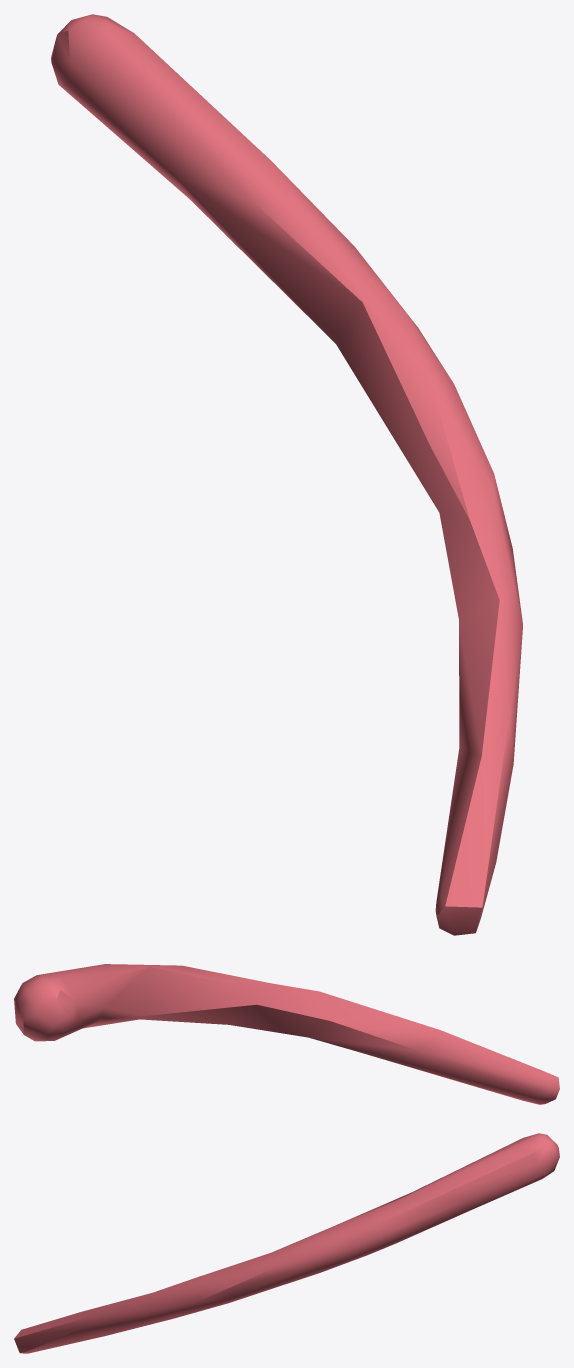
File: fma8668_fj2938.glb
3 renders of one model, top to bottom at view 1: azimuth 30°, elevation 25°; view 2: azimuth 150°, elevation 25°; view 3: azimuth 270°, elevation 25°, orthographic. The views are drawn at different scales.
Parts seen in each view (by area): view 1: FMA8668_FJ2938; view 2: FMA8668_FJ2938; view 3: FMA8668_FJ2938.
Boxes of the visible parts, x1=… form: FMA8668_FJ2938: x1=51, y1=14, x2=522, y2=935; FMA8668_FJ2938: x1=14, y1=964, x2=559, y2=1104; FMA8668_FJ2938: x1=14, y1=1133, x2=559, y2=1353.
Bounding box in the file's own units: 0.0121 × 0.0208 × 0.0405.
